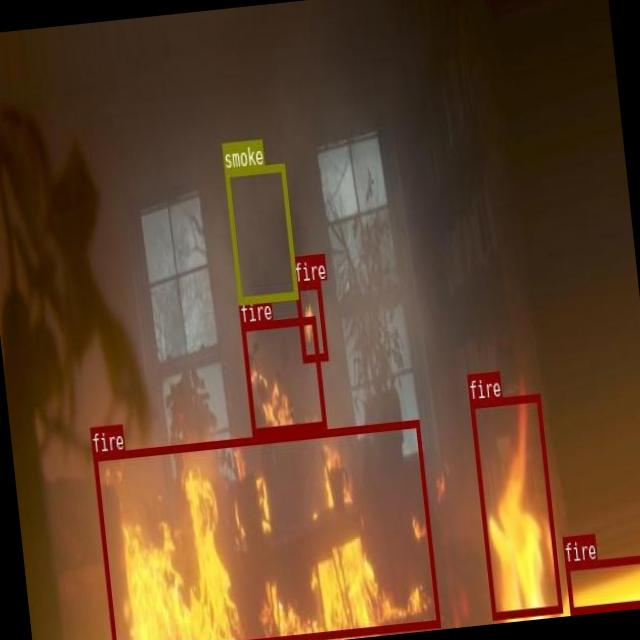fire: (91, 418, 439, 640), (469, 392, 562, 618), (240, 316, 326, 434), (564, 552, 640, 612), (294, 279, 327, 360)
smoke: (224, 162, 298, 304)
